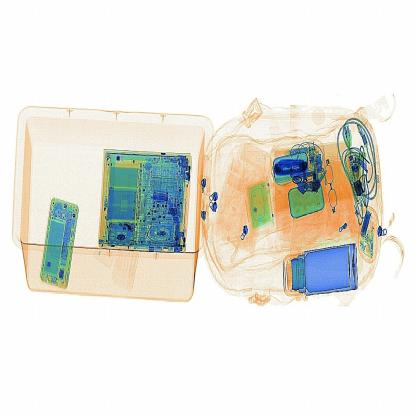scissors: (269, 154, 316, 184)
